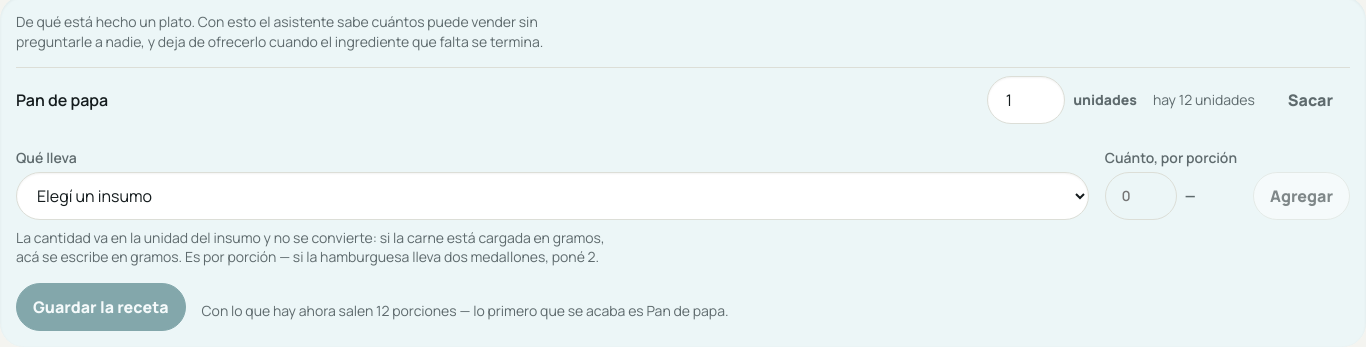
Test: lo que la receta guardada da hoy › con cambios sin guardar esconde el número: hasta entonces habla de la receta vieja
(page scrolled)
In the field named "Cuánto lleva de Pan de papa": (1026, 100) [987,76,1065,124], type "2"
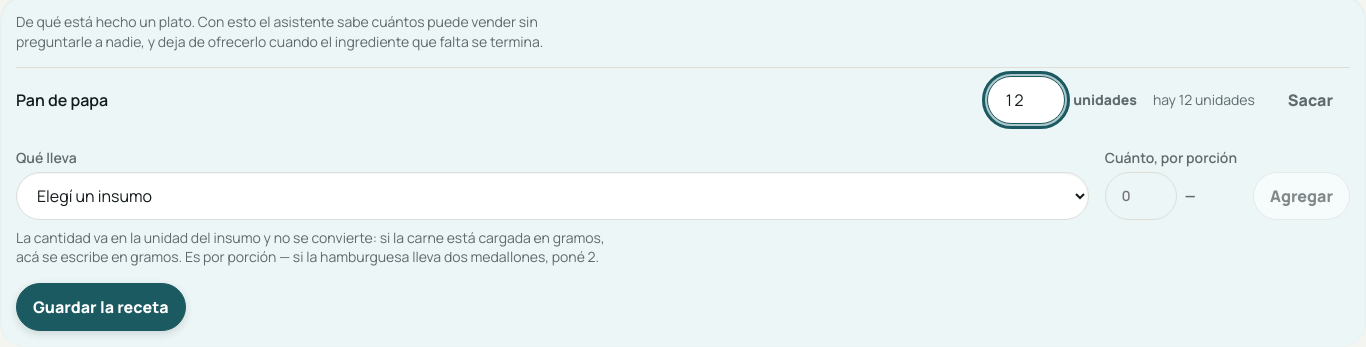
Expected: the text "Con lo que hay ahora salen" is gone
